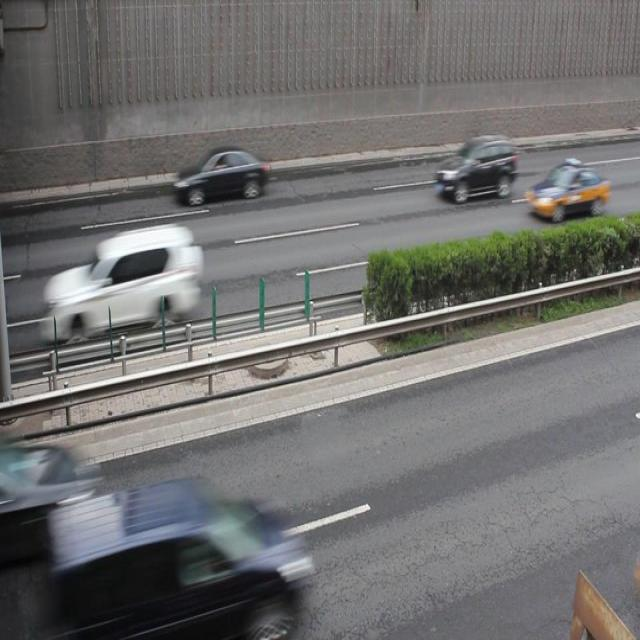car: (41, 225, 203, 343), (173, 144, 266, 206), (434, 134, 516, 201), (522, 159, 608, 220)
truck: (77, 476, 308, 640)
